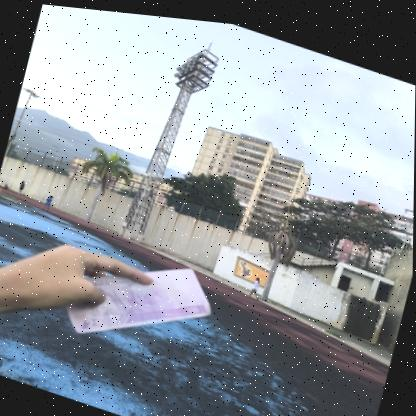vef_back: (60, 228, 222, 371)
